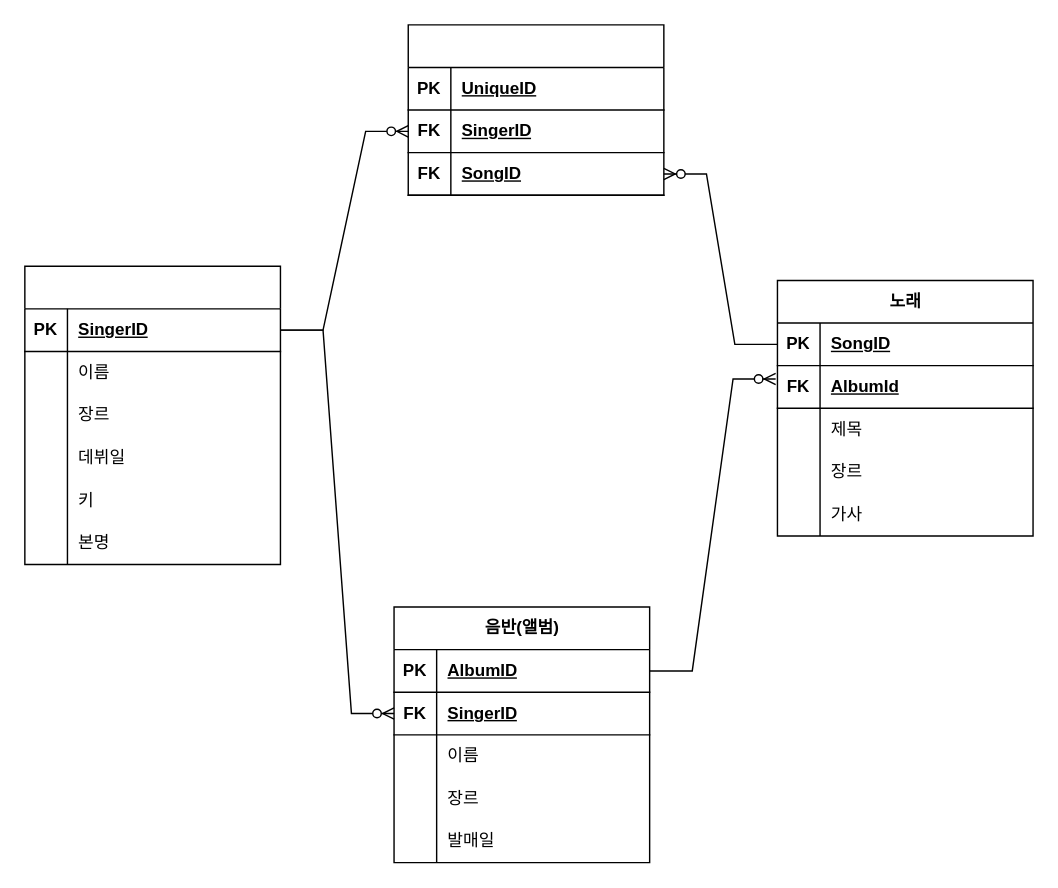
Some shapes in this 1058 by 888 pixel diagram are drawn without their labels. Here are the shapes that lost their labels. From the top down, the box of each, then its label:
(407, 23, 664, 195): 가수 - 노래 중계 테이블
(23, 265, 280, 564): 가수
